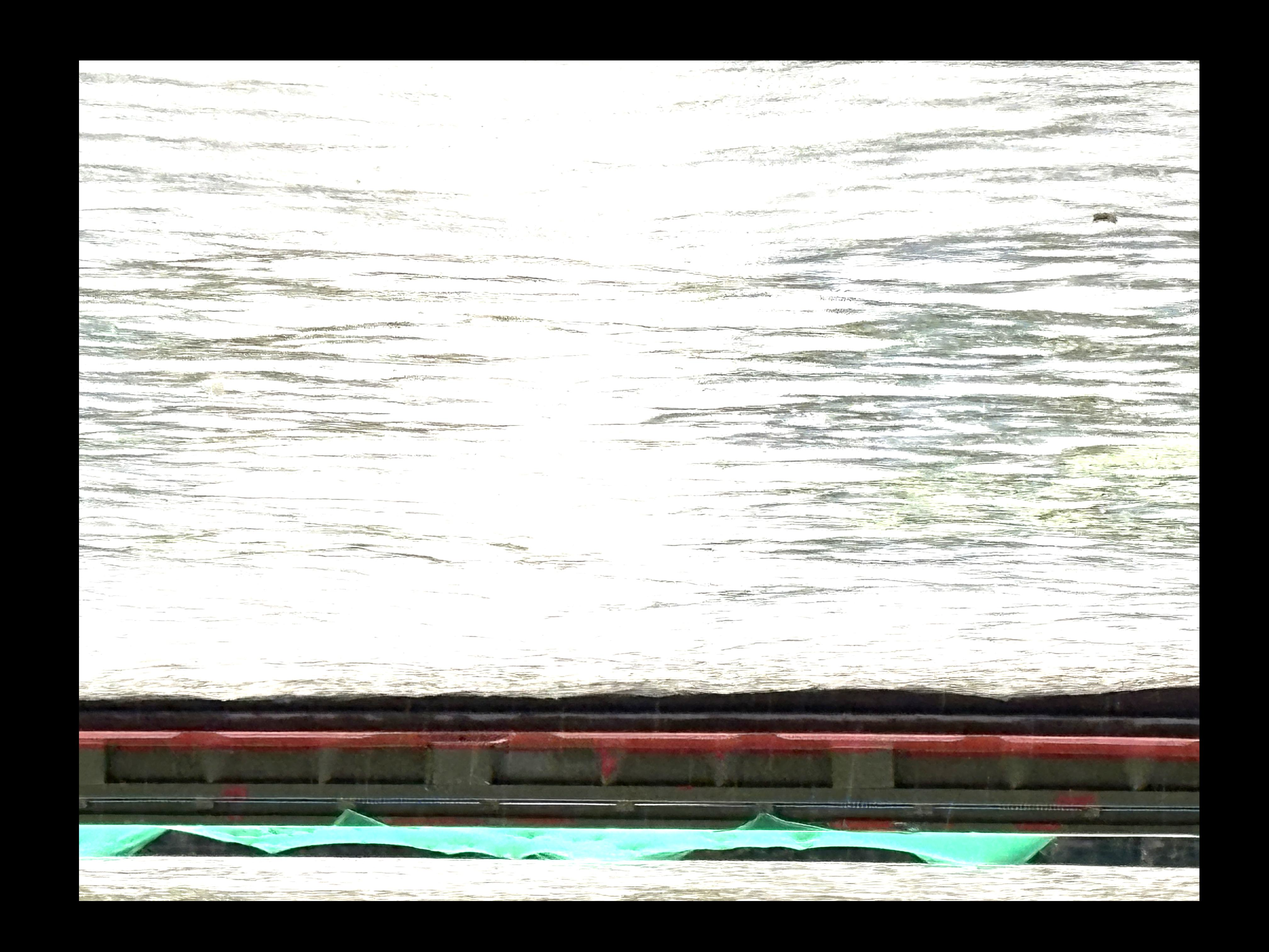Plastic wastes: (1092, 215, 1119, 235)
